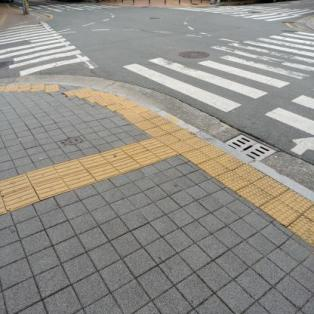Podoctatil: (0, 134, 313, 255), (0, 66, 191, 137)
